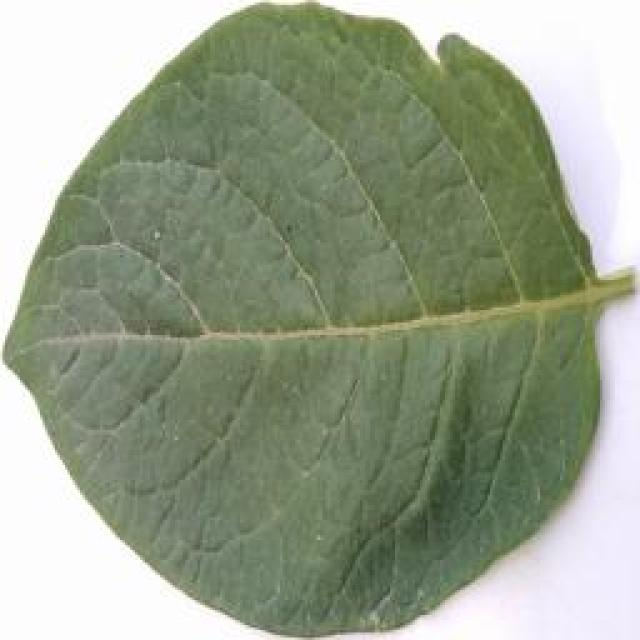Potato_Healthy: (1, 13, 624, 640)
